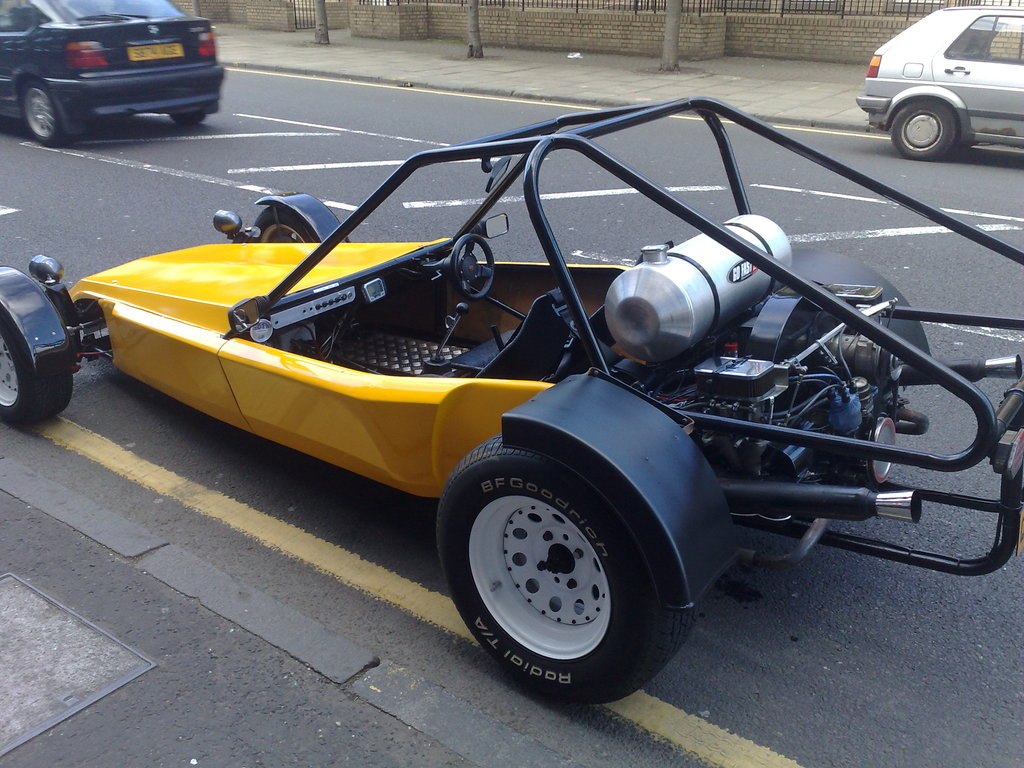Car: (0, 96, 1024, 704), (0, 0, 223, 146), (855, 5, 1024, 161)
